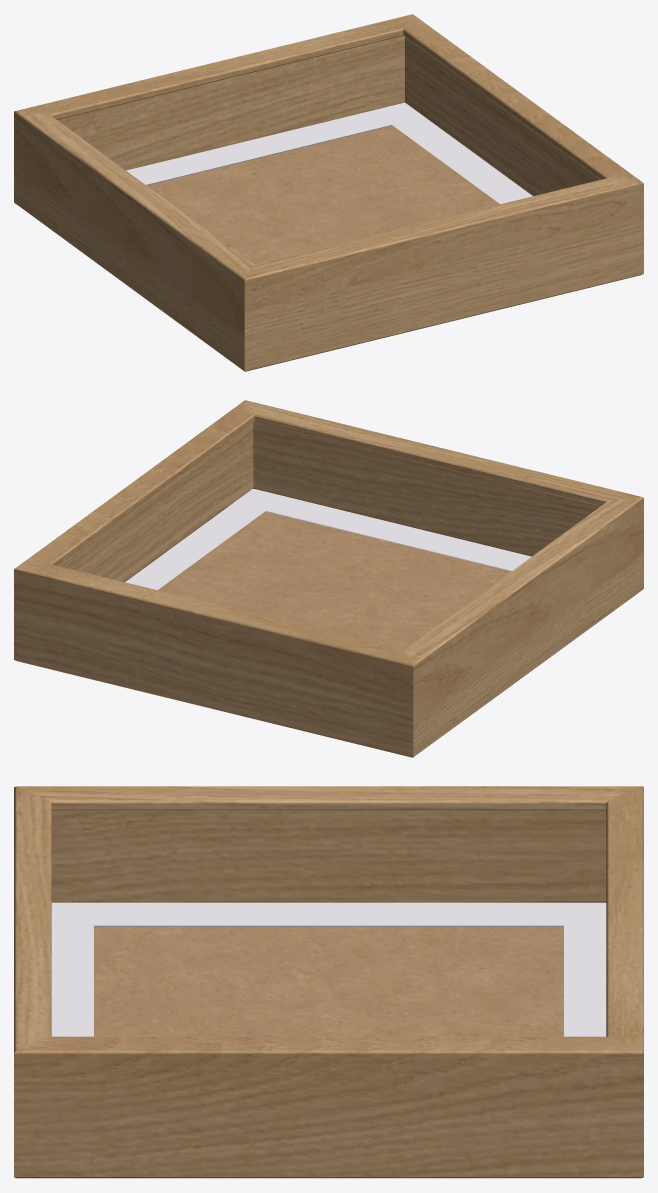
Rendered from frame-small-oak.glb.
The picture shows the model from 3 angles, top to bottom: view 1: azimuth 30°, elevation 25°; view 2: azimuth 150°, elevation 25°; view 3: azimuth 270°, elevation 25°; orthographic projection. The views are drawn at different scales.
Parts seen in each view (by area): view 1: ASY_ART_20568911_S01_NV01; view 2: ASY_ART_20568911_S01_NV01; view 3: ASY_ART_20568911_S01_NV01.
Boxes of the visible parts, bbox=[...] form: ASY_ART_20568911_S01_NV01: bbox=[14, 14, 643, 371]; ASY_ART_20568911_S01_NV01: bbox=[14, 400, 643, 757]; ASY_ART_20568911_S01_NV01: bbox=[14, 786, 643, 1178].
Size of the model in its own units: 0.268 by 0.0604 by 0.268.
2 materials, 1 textured.
